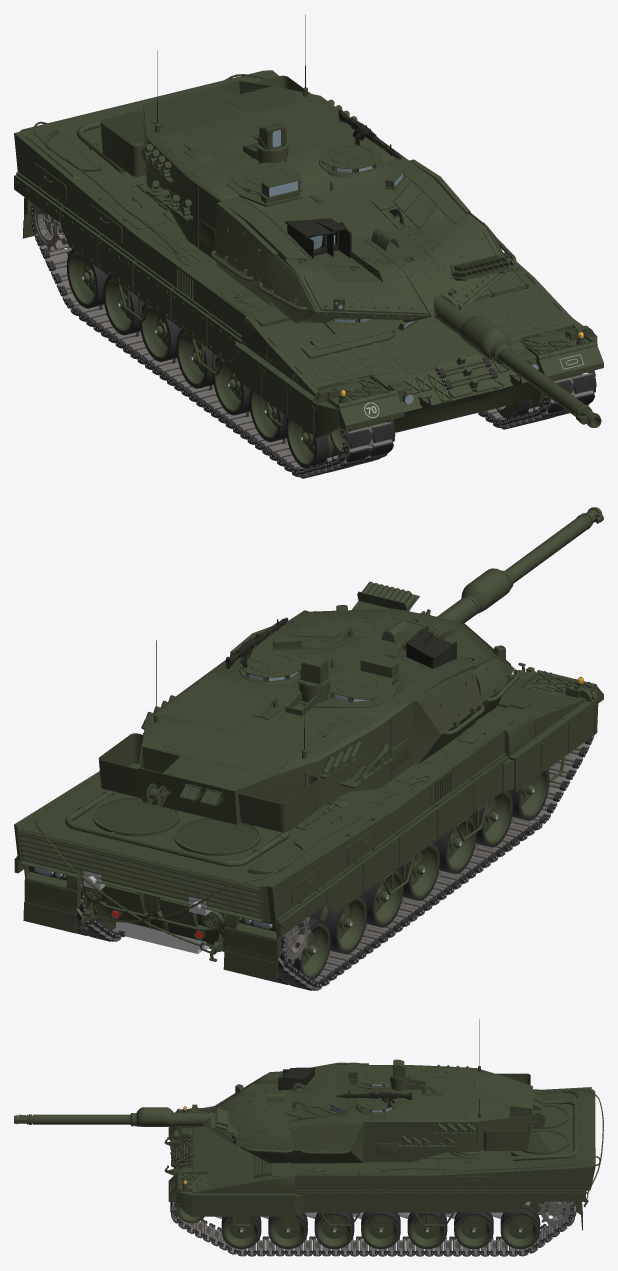
File: product.glb
3 renders of one model, top to bottom at view 1: azimuth 30°, elevation 25°; view 2: azimuth 150°, elevation 25°; view 3: azimuth 270°, elevation 25°, orthographic. The views are drawn at different scales.
Parts seen in each view (by area): view 1: turret, hull, road_wheels_r, track_r, engine_deck, side_skirt_r, main_gun, track_l, optics, smoke_dischargers, sprocket_r, machine_gun (+1 smaller); view 2: turret, hull, engine_deck, road_wheels_r, track_r, side_skirt_r, main_gun, smoke_dischargers, optics, transmission, track_l, machine_gun (+1 smaller); view 3: turret, hull, road_wheels_l, track_l, engine_deck, side_skirt_l, main_gun, smoke_dischargers, sprocket_l, optics, machine_gun, suspension_l.
Boxes of the visible parts, bbox=[...] form: turret: bbox=[100, 50, 516, 335]; hull: bbox=[14, 70, 603, 437]; road_wheels_r: bbox=[66, 249, 339, 467]; track_r: bbox=[31, 205, 395, 478]; engine_deck: bbox=[14, 70, 279, 234]; side_skirt_r: bbox=[16, 162, 341, 427]; main_gun: bbox=[457, 315, 601, 427]; track_l: bbox=[478, 370, 596, 429]; optics: bbox=[285, 218, 351, 258]; smoke_dischargers: bbox=[141, 99, 357, 220]; sprocket_r: bbox=[31, 203, 63, 251]; machine_gun: bbox=[305, 14, 401, 159]; turret: bbox=[98, 581, 519, 832]; hull: bbox=[14, 662, 603, 982]; engine_deck: bbox=[14, 771, 392, 922]; road_wheels_r: bbox=[281, 769, 549, 979]; track_r: bbox=[277, 735, 594, 990]; side_skirt_r: bbox=[275, 684, 595, 939]; main_gun: bbox=[461, 507, 603, 615]; smoke_dischargers: bbox=[141, 695, 393, 788]; optics: bbox=[406, 627, 456, 668]; transmission: bbox=[116, 922, 209, 953]; track_l: bbox=[76, 884, 125, 941]; machine_gun: bbox=[156, 617, 288, 713]; turret: bbox=[178, 1019, 544, 1163]; hull: bbox=[164, 1089, 603, 1230]; road_wheels_l: bbox=[221, 1204, 540, 1249]; track_l: bbox=[170, 1201, 576, 1256]; engine_deck: bbox=[436, 1087, 591, 1175]; side_skirt_l: bbox=[192, 1172, 582, 1226]; main_gun: bbox=[14, 1107, 178, 1126]; smoke_dischargers: bbox=[398, 1064, 476, 1150]; sprocket_l: bbox=[537, 1201, 573, 1226]; optics: bbox=[278, 1067, 315, 1090]; machine_gun: bbox=[336, 1091, 479, 1111]; suspension_l: bbox=[215, 1201, 530, 1218].
Size of the model in its own units: 3.79 by 3.57 by 10.79.
